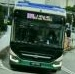bus: (18, 9, 35, 20)
